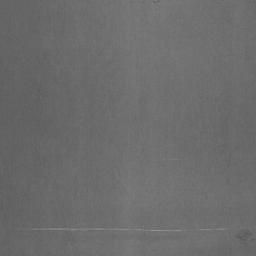Waist folding: (17, 226, 256, 242)
